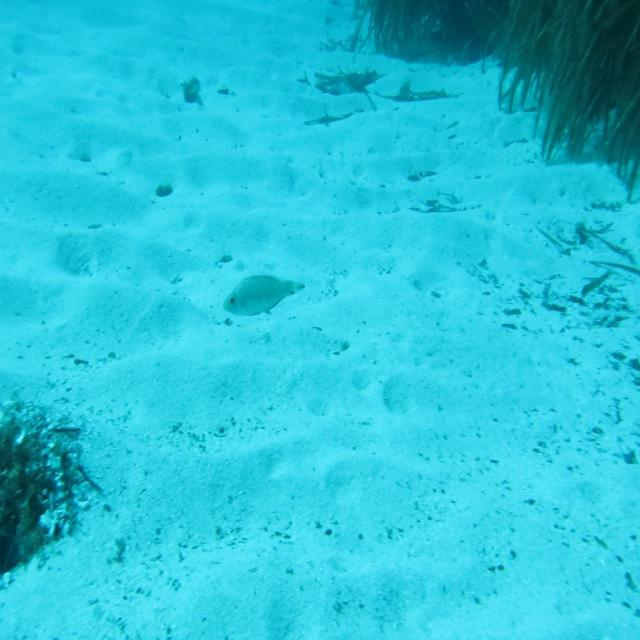BN: (220, 260, 306, 328)
nest: (0, 393, 93, 587)
vegetation: (352, 0, 638, 87)
